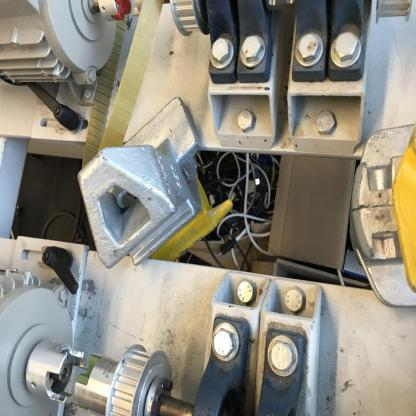Twistlock: (69, 90, 244, 269), (340, 120, 416, 311)
